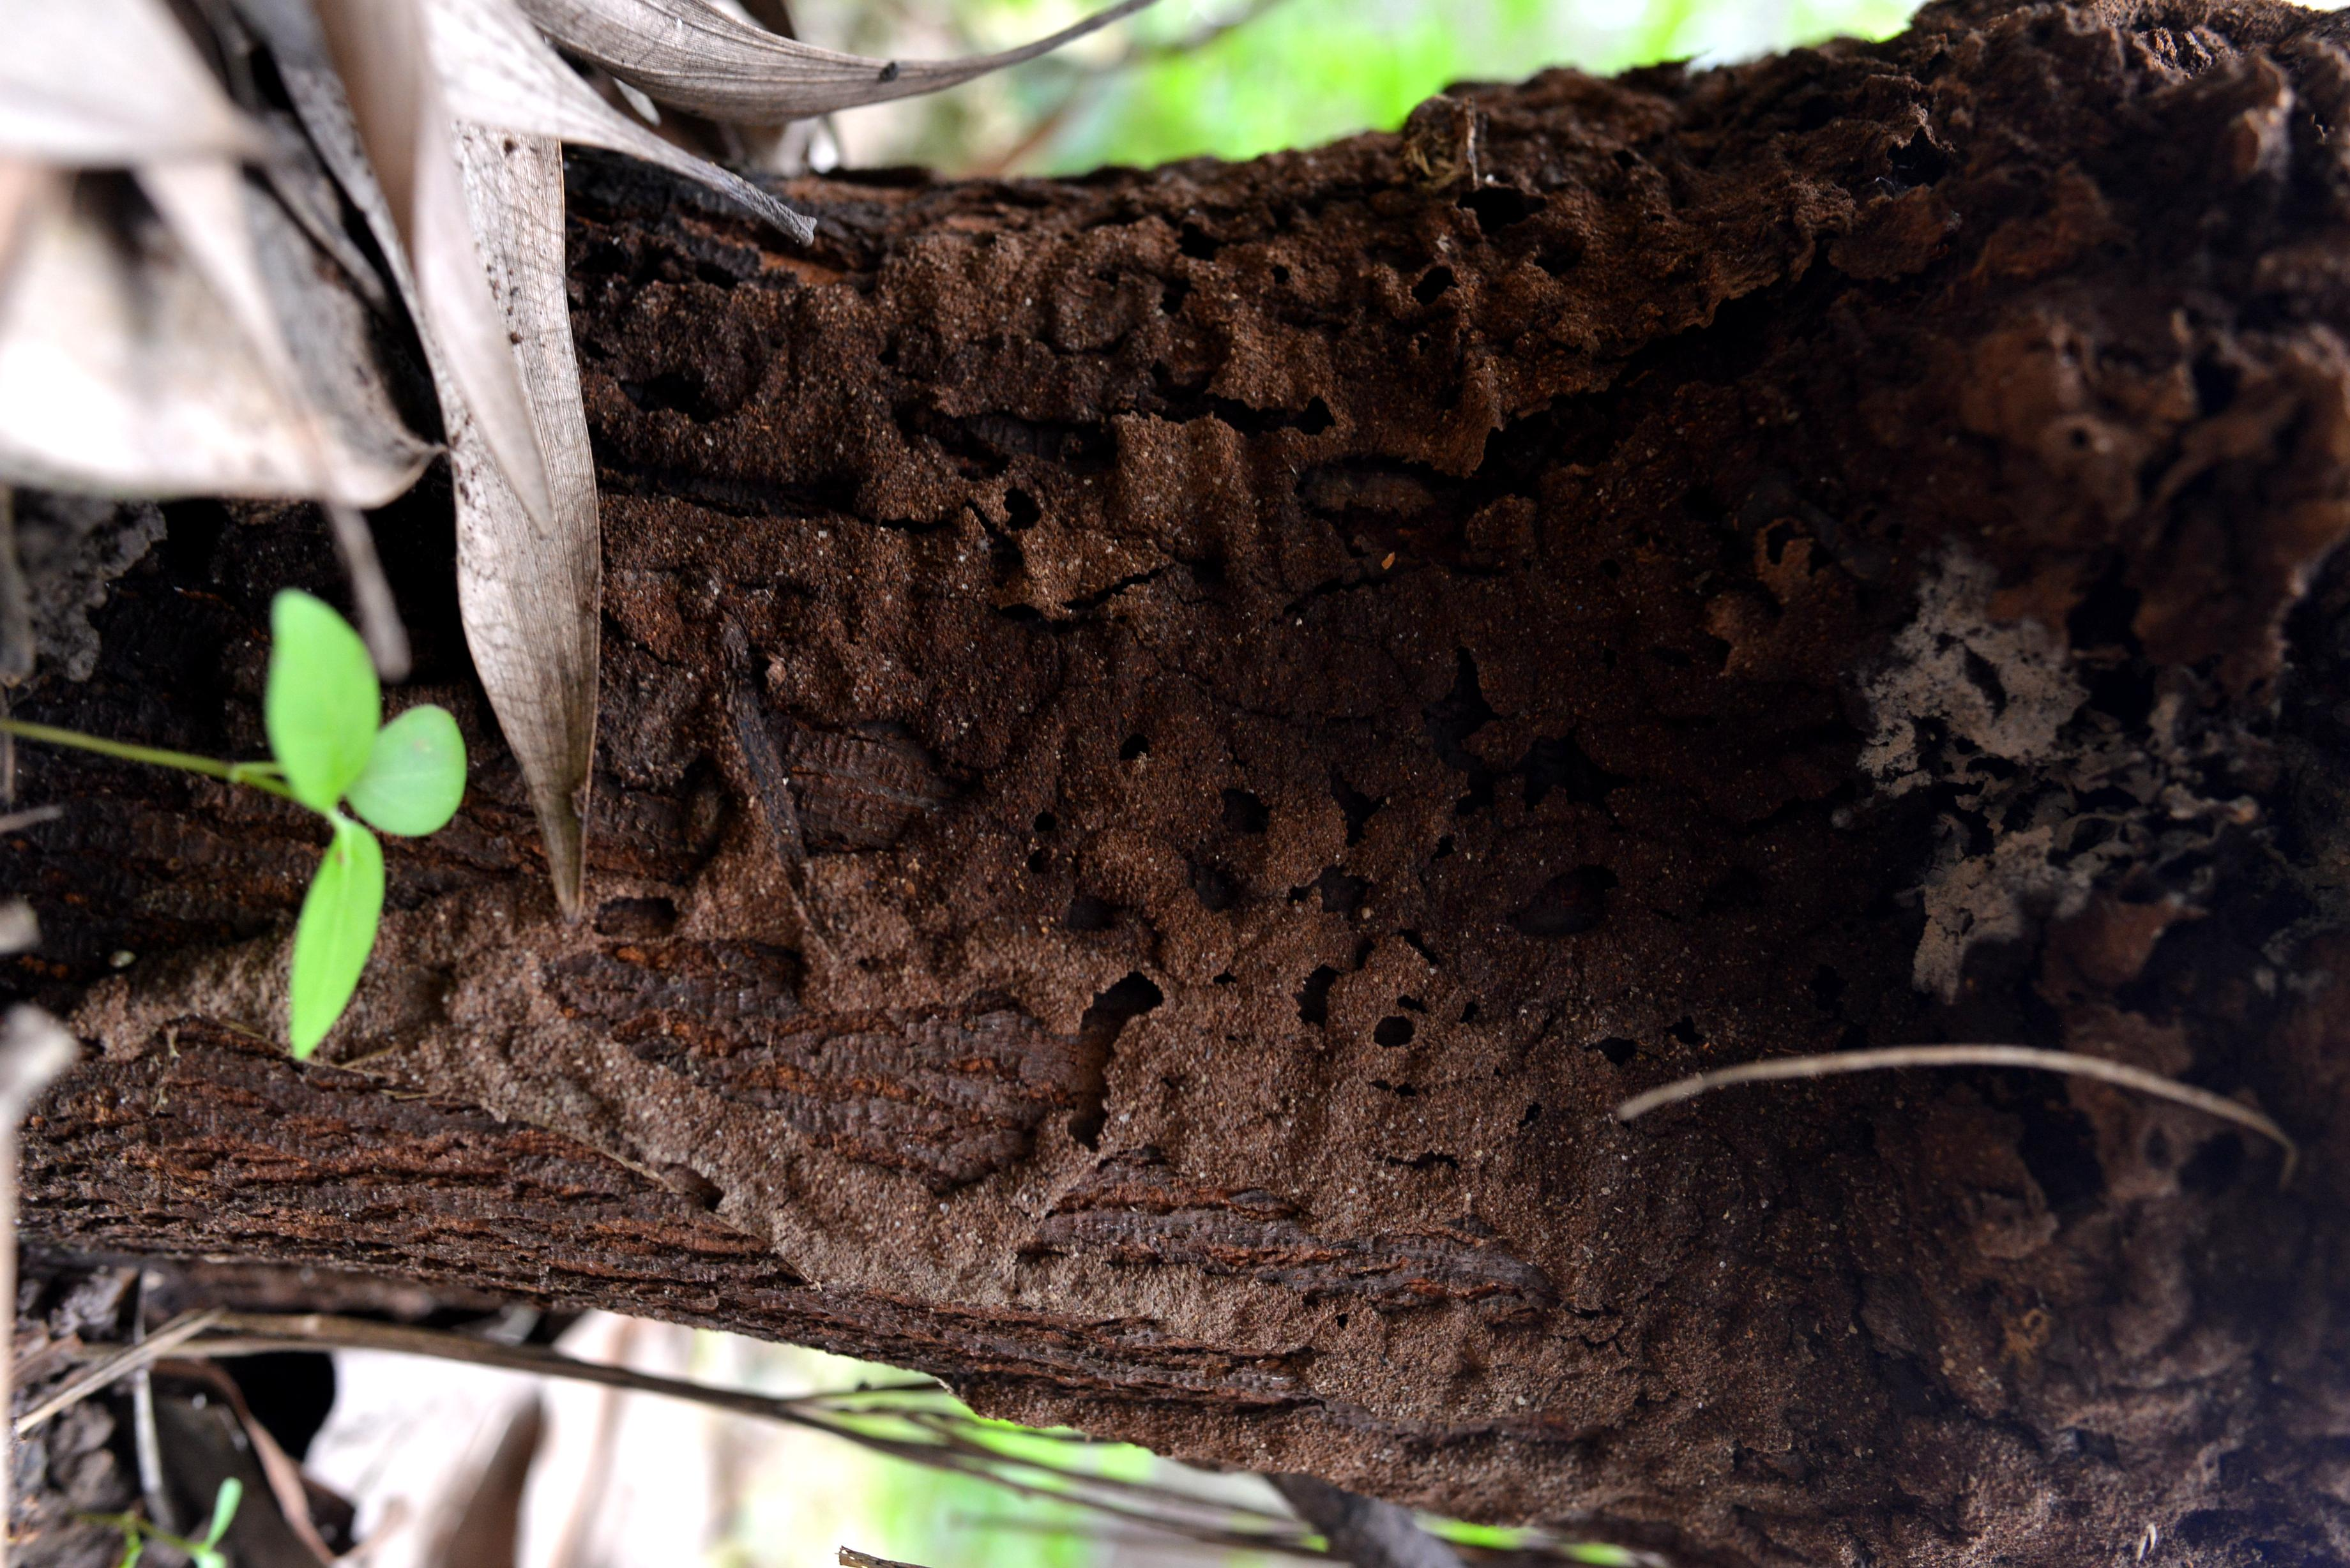Termite - Nest: (619, 128, 2350, 1568)
